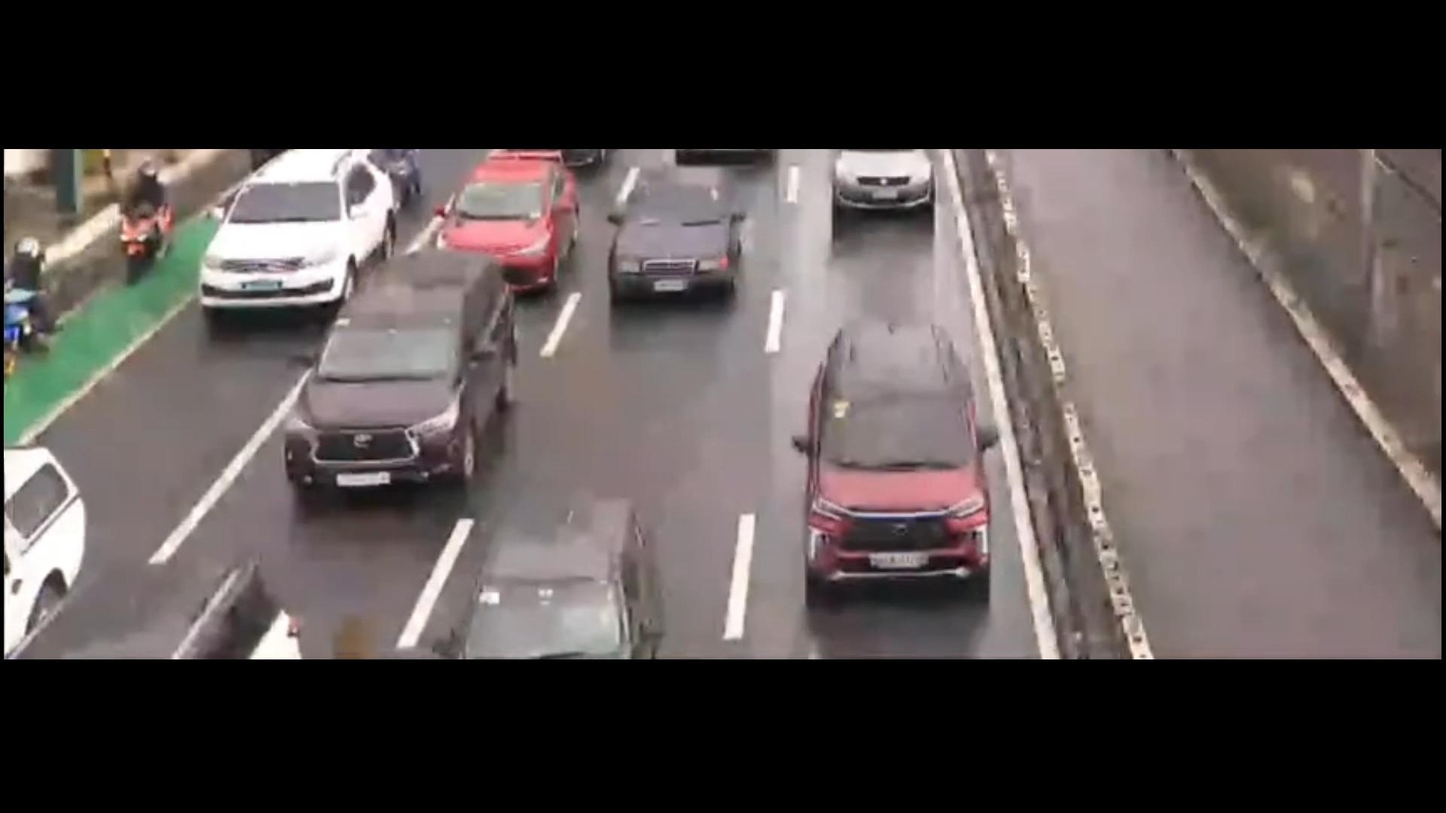Motorcycle: (0, 238, 70, 381), (108, 170, 192, 285)
SUV: (787, 279, 1004, 621), (268, 256, 541, 520), (185, 140, 414, 320)
Sedan: (594, 162, 757, 322), (423, 157, 577, 283)
